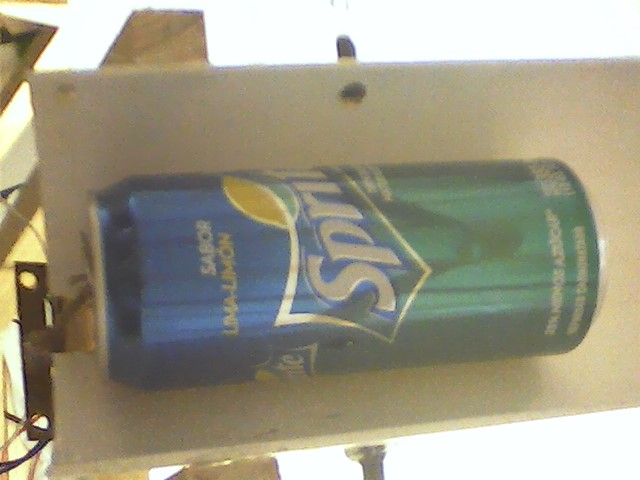lata: (75, 157, 613, 400)
